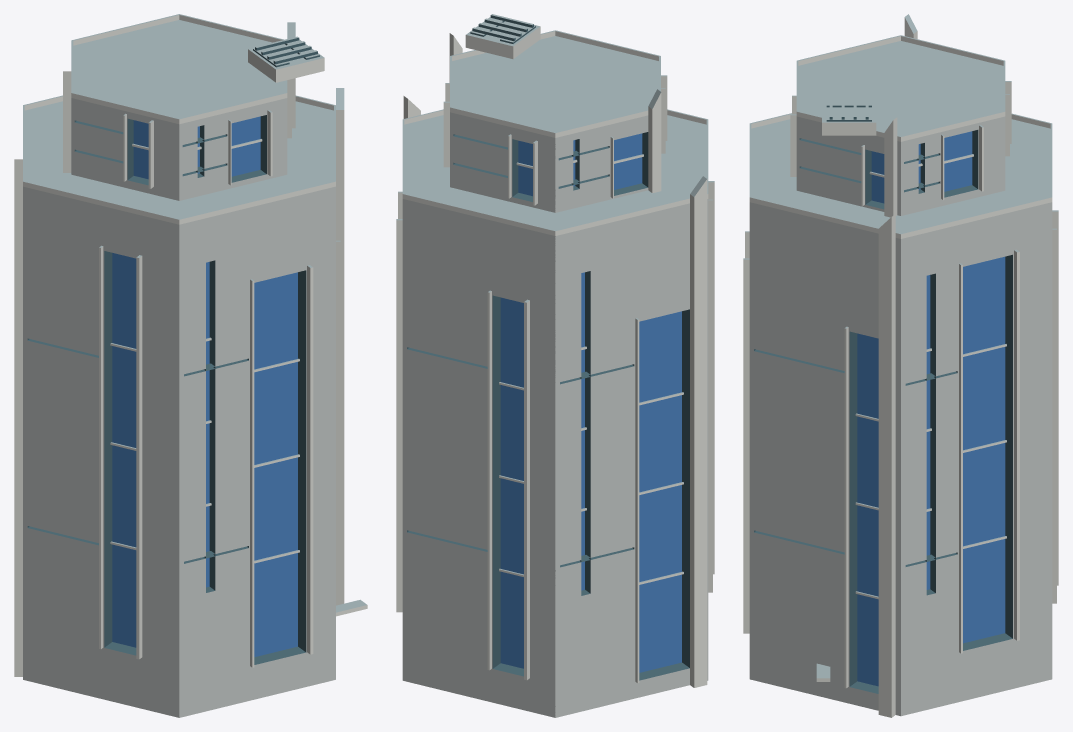
Rendered from 09_Sechseckturm.obj.
The picture shows the model from 3 angles, left to right: view 1: azimuth 30°, elevation 25°; view 2: azimuth 150°, elevation 25°; view 3: azimuth 270°, elevation 25°; orthographic projection. The views are drawn at different scales.
Size of the model in its own units: 0.5636 by 1 by 0.4971.
